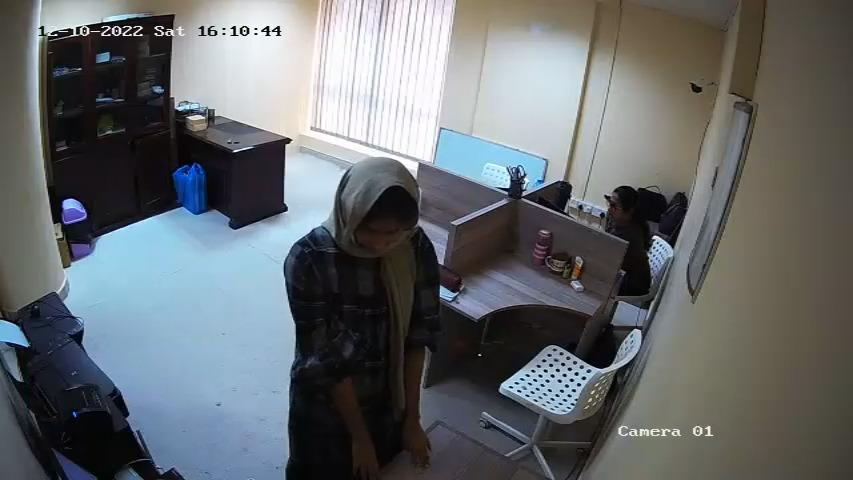no_gloves: (392, 411, 438, 468), (342, 426, 383, 476)
